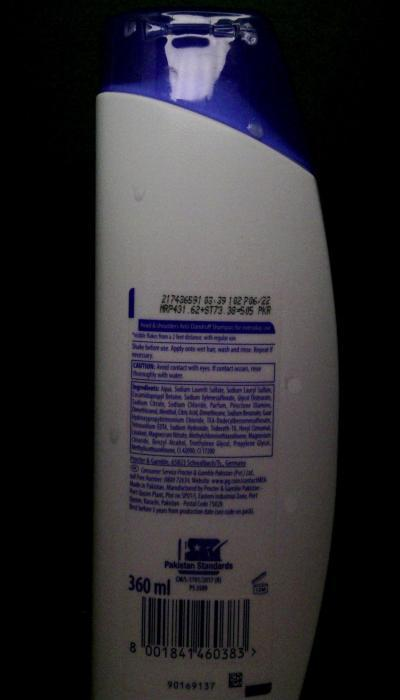pob_marg: (279, 368, 312, 404), (100, 416, 127, 452), (277, 493, 309, 520), (125, 182, 154, 210)
